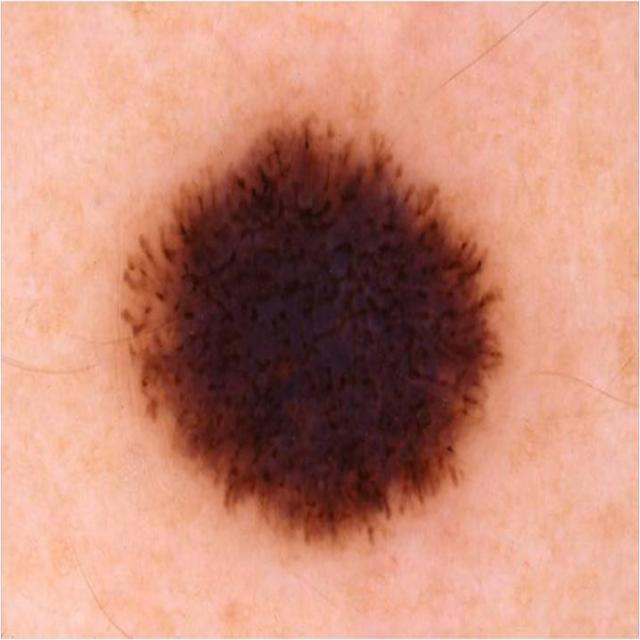Benign: (122, 116, 504, 553)
